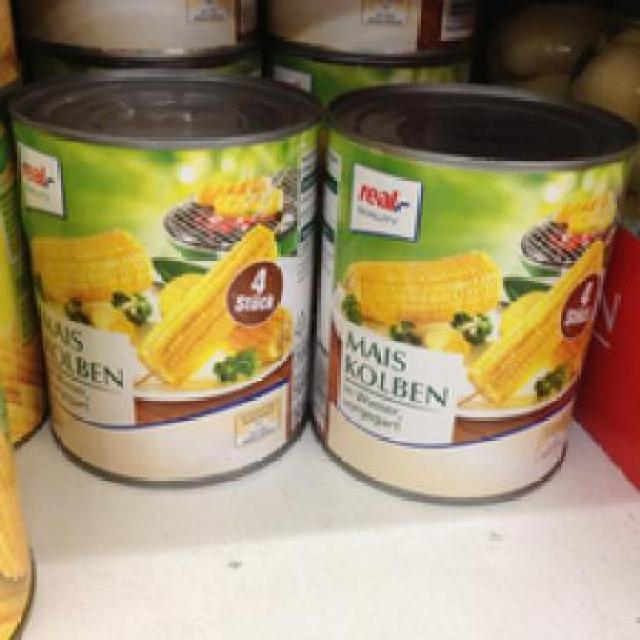Corn: (312, 80, 634, 500), (5, 66, 318, 486)
